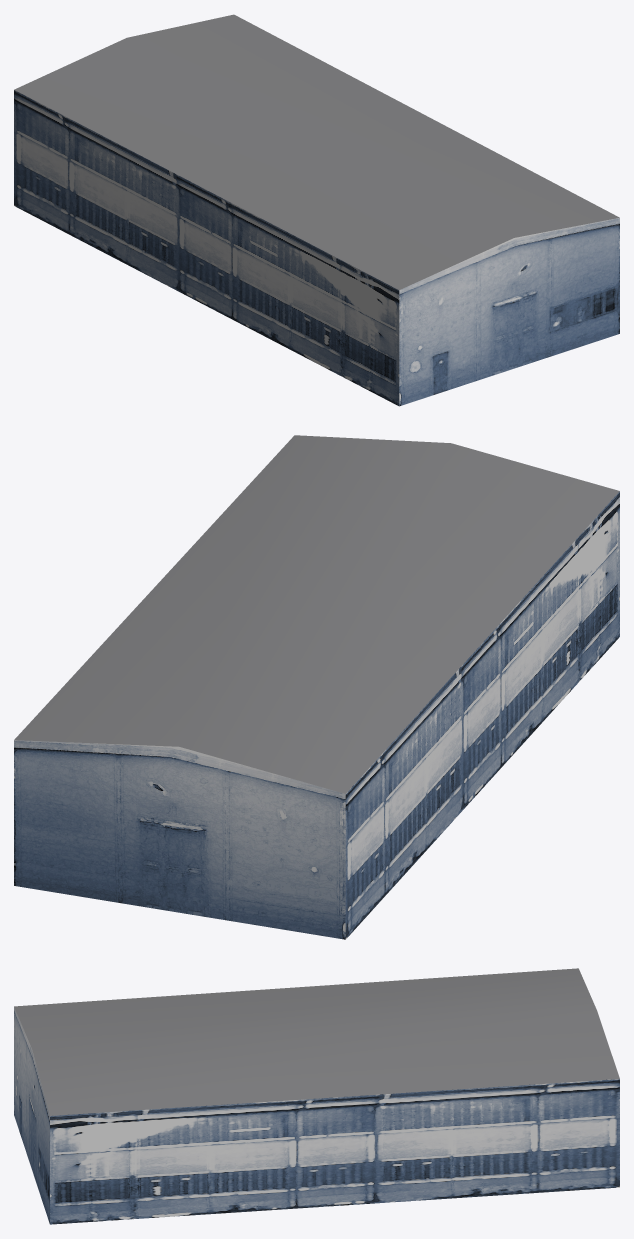
Rendered from VVT-Halle.gltf.
3 views of the same model, one above another, from view 1: azimuth 30°, elevation 25°; view 2: azimuth 150°, elevation 25°; view 3: azimuth 270°, elevation 25° (orthographic). The views are drawn at different scales.
Visible parts, largest first — view 1: Dach.1; view 2: Dach.1; view 3: Dach.1.
Part boxes in pixels (x1,y1,x2,y2): Dach.1: (14, 14, 619, 406); Dach.1: (14, 435, 619, 939); Dach.1: (14, 968, 619, 1224).
Bounding box in the file's own units: 27.39 × 10.6 × 47.52.
5 materials, 4 textured.
